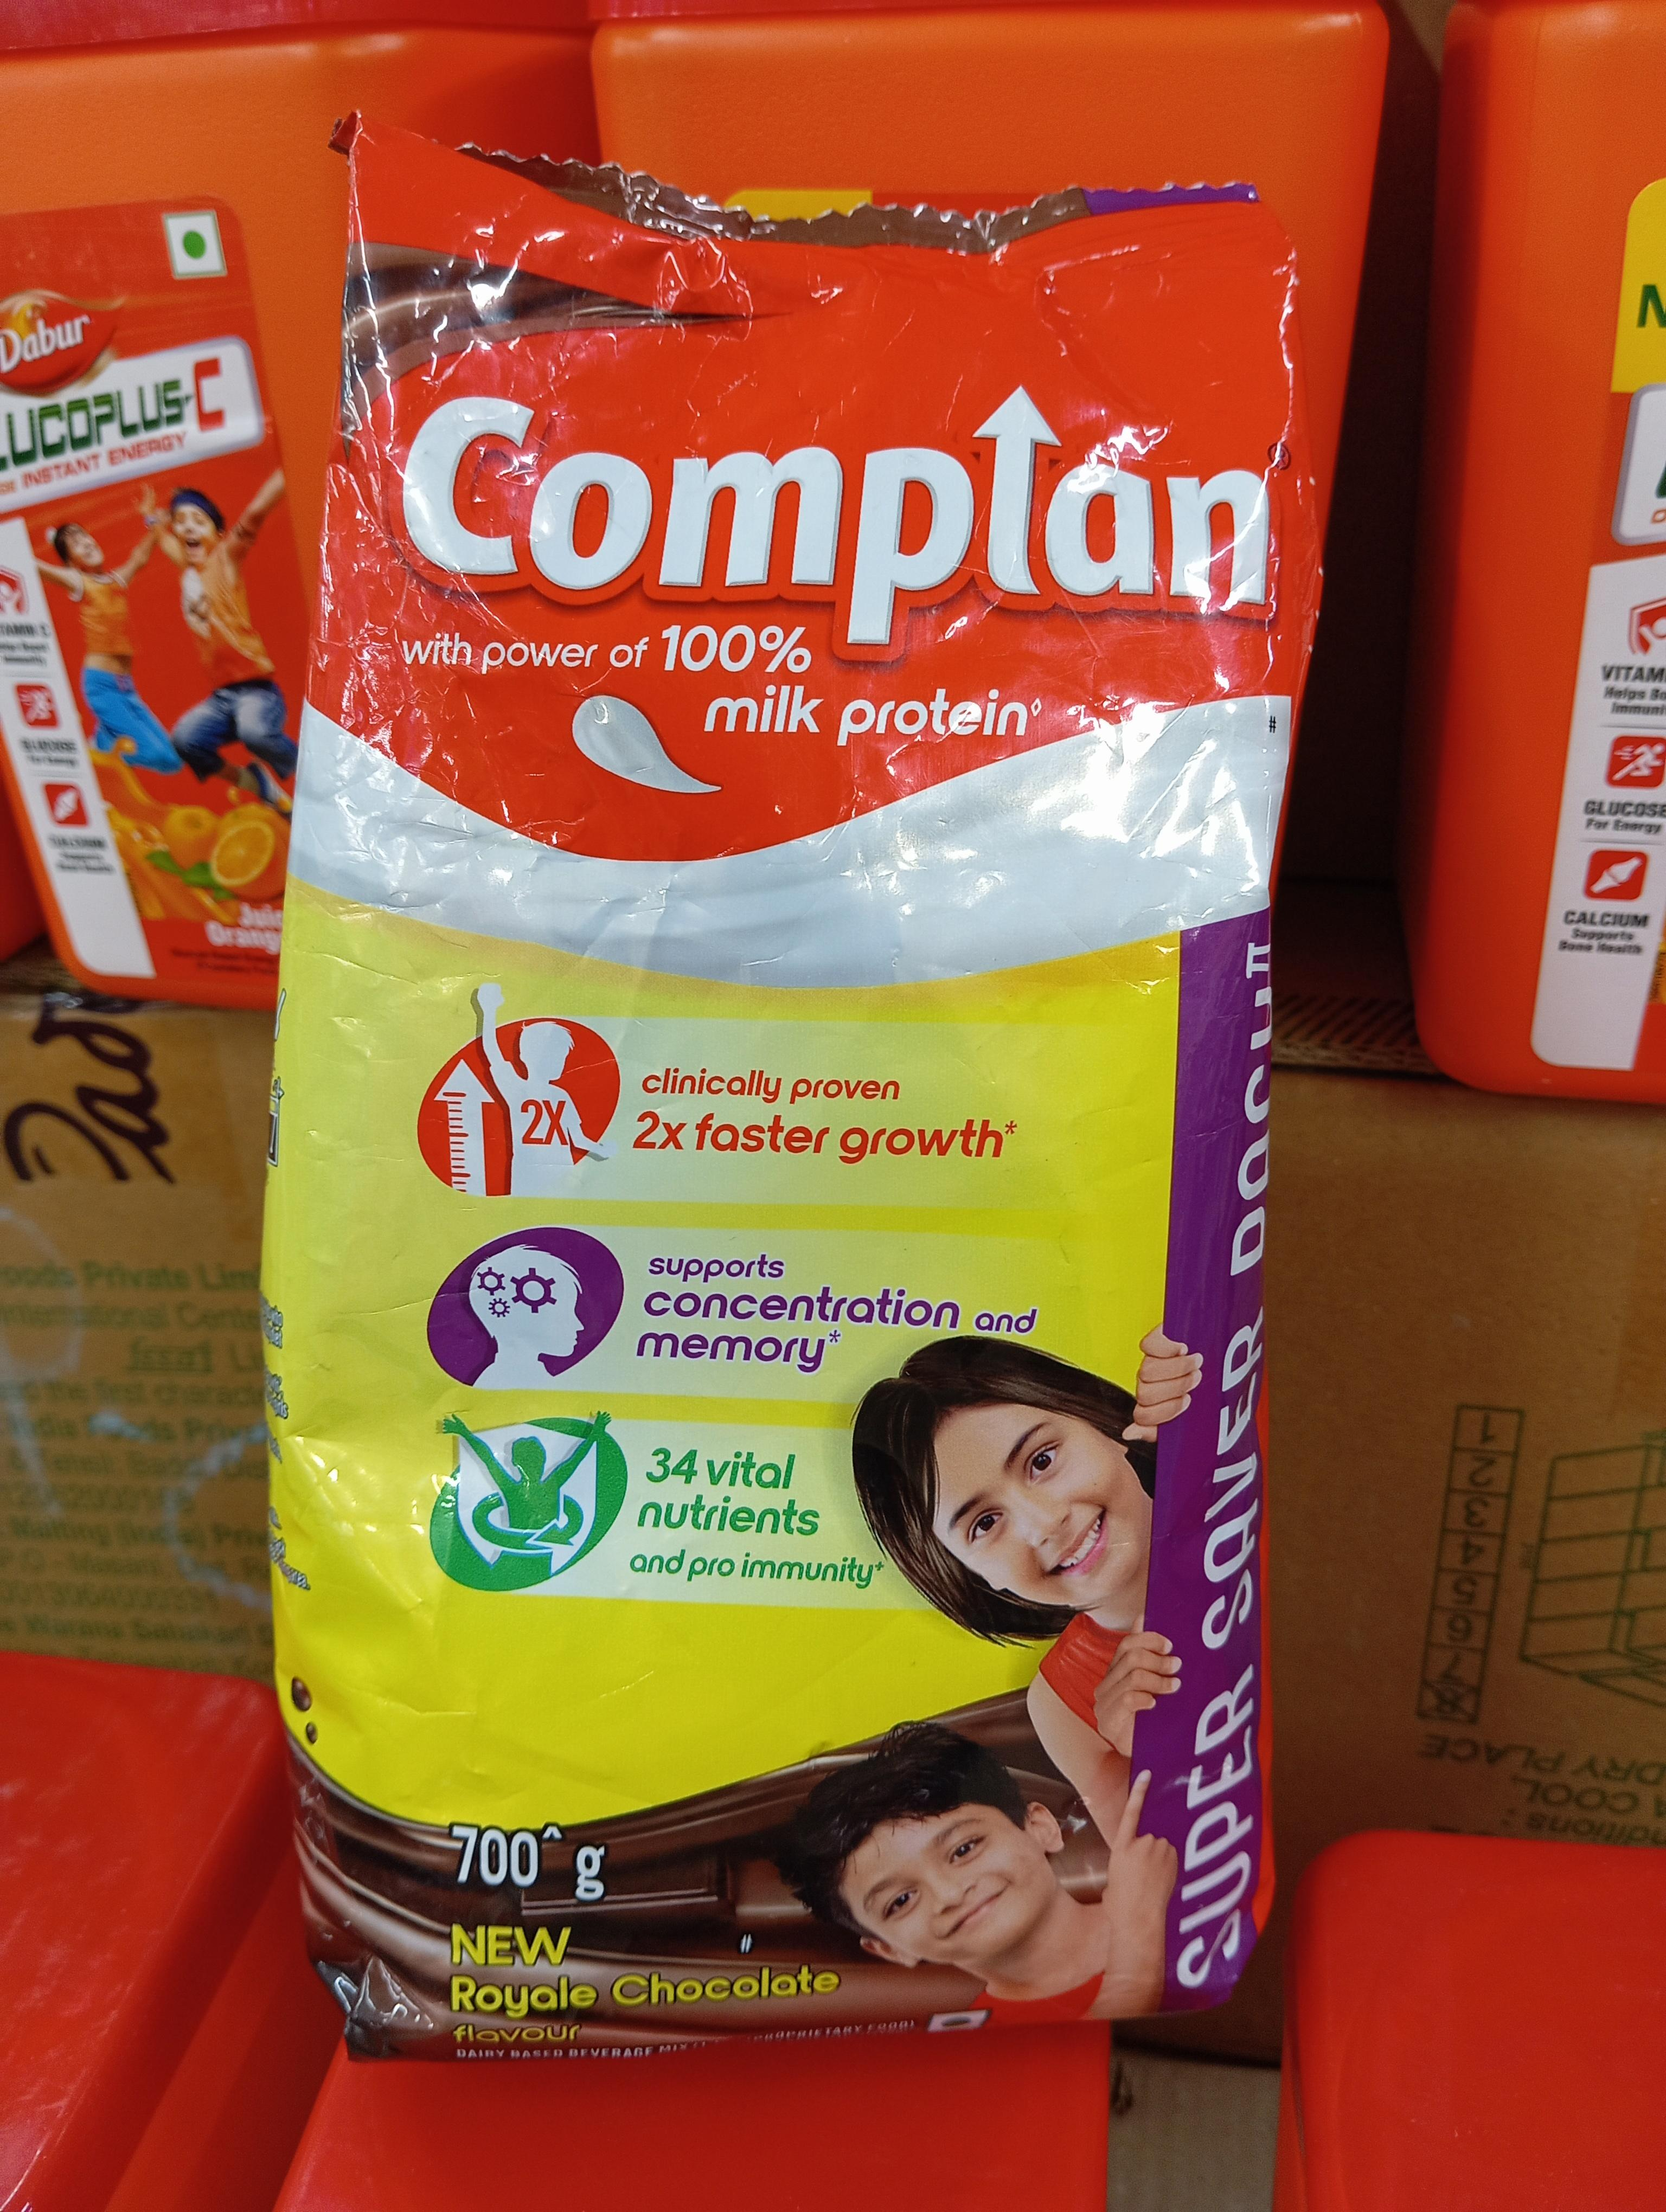COMPLAN_RC_POUCH_700_GMS_12: (310, 184, 1242, 2060)
